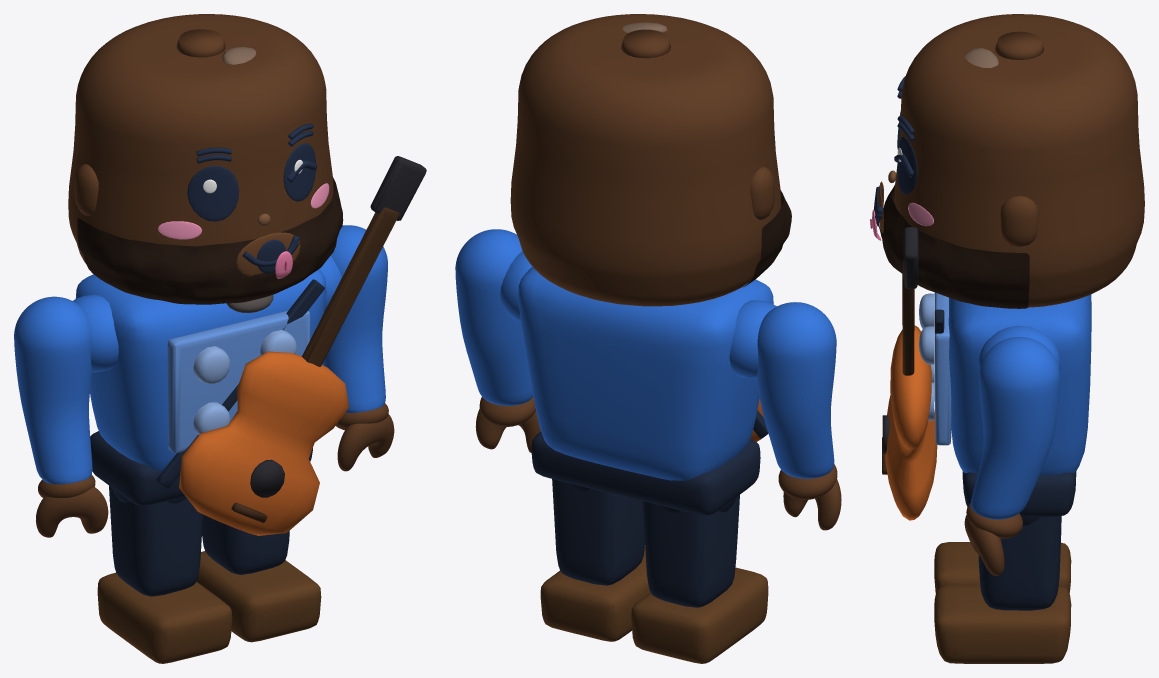
Rendered from dad.glb.
The picture shows the model from 3 angles, left to right: view 1: azimuth 30°, elevation 25°; view 2: azimuth 150°, elevation 25°; view 3: azimuth 270°, elevation 25°; orthographic projection.
Visible parts, largest first — view 1: Body, HeadMesh, ArmMeshL, ArmMeshR, Ink_surprised_1D2A44, Ink_happy_6B4226, Ink_happy_FF9EC4, Ink_silly_1D2A44; view 2: Body, HeadMesh, ArmMeshL, ArmMeshR; view 3: HeadMesh, Body, ArmMeshR, Ink_surprised_1D2A44.
Boxes of the visible parts, x1,y1,x2,y2 form: Body: (73,156,426,663); HeadMesh: (68,14,343,312); ArmMeshL: (14,296,108,537); ArmMeshR: (322,225,394,471); Ink_surprised_1D2A44: (187,123,315,273); Ink_happy_6B4226: (236,232,300,276); Ink_happy_FF9EC4: (158,183,329,239); Ink_silly_1D2A44: (196,131,317,266); Body: (500,251,776,663); HeadMesh: (510,14,791,306); ArmMeshL: (757,302,841,530); ArmMeshR: (455,229,540,452); HeadMesh: (879,14,1144,308); Body: (882,227,1091,663); ArmMeshR: (964,336,1059,575); Ink_surprised_1D2A44: (875,76,917,226).
Bounding box in the file's own units: 1.63 × 2.51 × 1.06.
